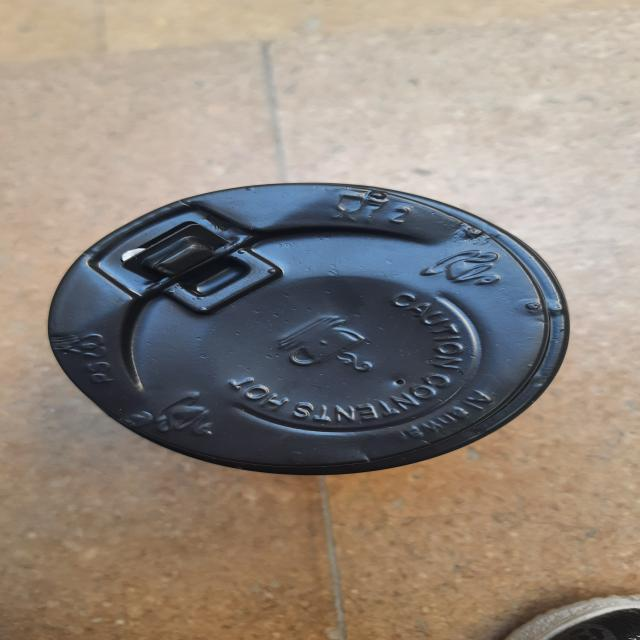plastic: (36, 151, 593, 488)
